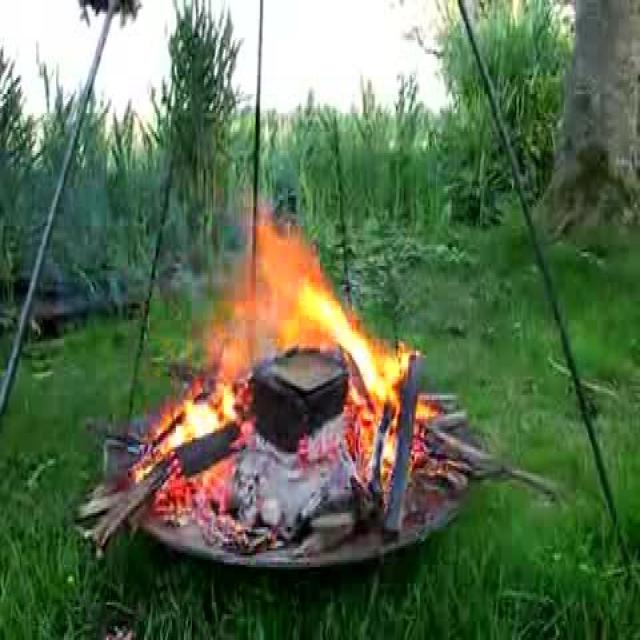fire: (197, 230, 420, 465)
